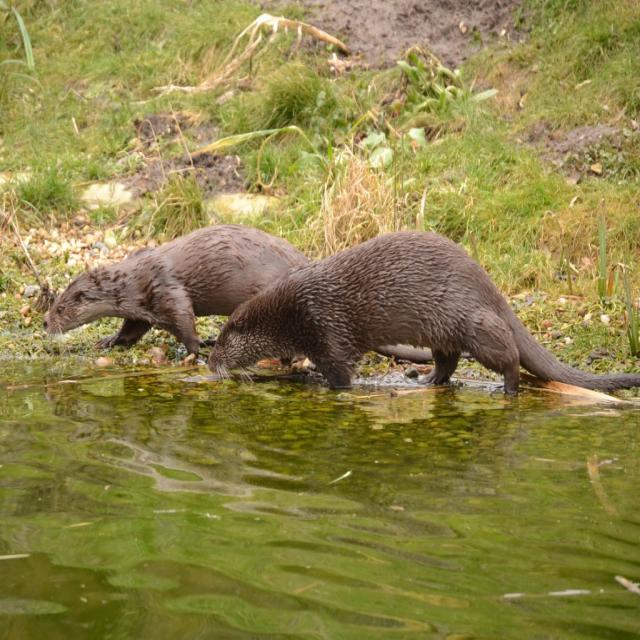otter: (213, 229, 524, 389), (46, 229, 303, 347)
